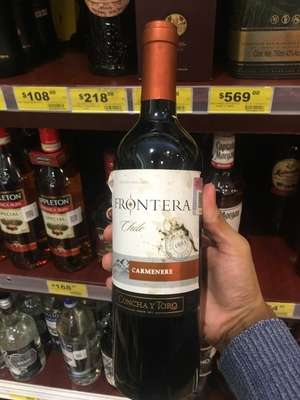frontera carmenere: (96, 40, 218, 400)
